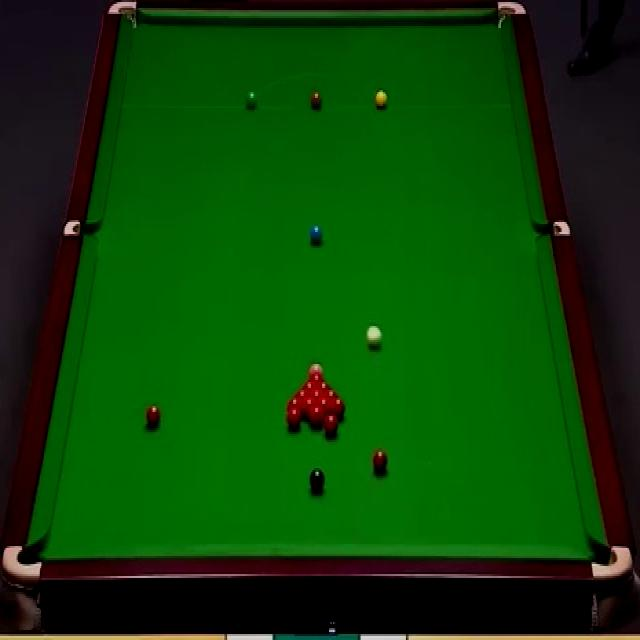black-ball: (309, 467, 326, 493)
blue-ball: (310, 223, 324, 245)
brown-ball: (309, 88, 324, 110)
green-ball: (245, 90, 260, 110)
pink-ball: (308, 362, 324, 377)
red-ball: (371, 452, 388, 476), (145, 403, 161, 428), (329, 396, 347, 416), (322, 413, 338, 435), (308, 406, 324, 426), (287, 408, 301, 430), (301, 398, 314, 417), (288, 397, 300, 415), (315, 397, 329, 412), (293, 389, 309, 398), (308, 374, 325, 382), (307, 390, 323, 398), (316, 382, 332, 390), (323, 389, 337, 398), (302, 382, 316, 389)
white-ball: (368, 324, 383, 351)
yellow-ball: (375, 88, 388, 109)
